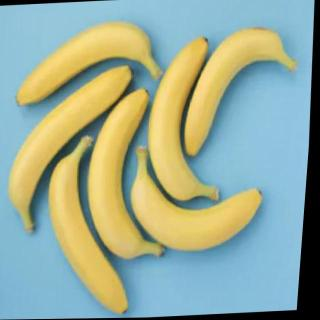banana: (2, 61, 140, 236), (43, 133, 144, 320), (81, 84, 179, 264), (178, 24, 304, 160), (128, 140, 272, 258), (141, 34, 233, 206), (12, 18, 168, 108)
